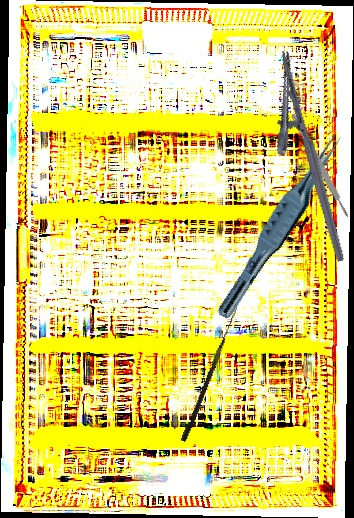Hook Surgical: (180, 304, 238, 444)
Needle Holder: (251, 49, 347, 270)
Scalpel Handle: (289, 112, 351, 219)
Tissue Forceps: (214, 126, 348, 327)
